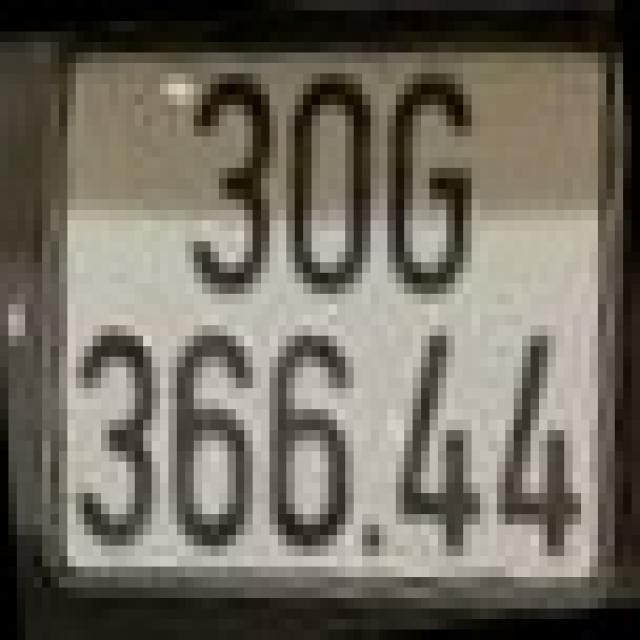0: (286, 73, 371, 294)
3: (186, 73, 270, 294), (76, 325, 160, 546)
4: (396, 325, 480, 556), (497, 325, 581, 556)
6: (261, 325, 354, 546), (168, 325, 252, 546)
G: (387, 63, 480, 294)
